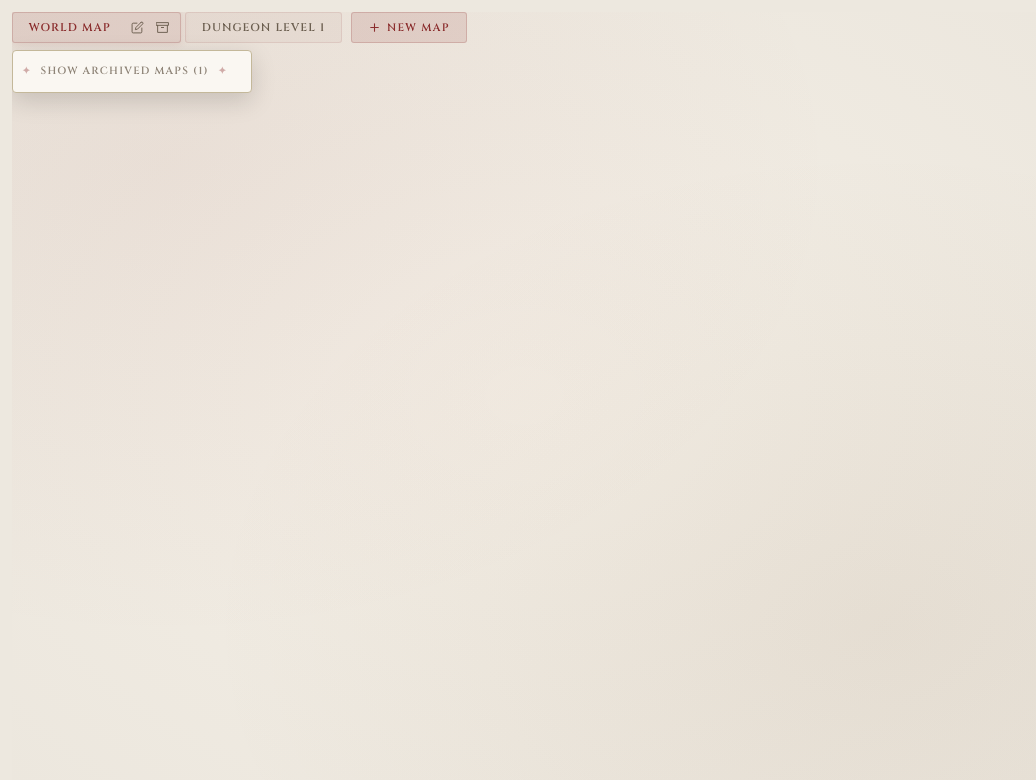
Test: MapSelector › should hide archived maps list when toggle clicked twice
The width and height of the screenshot is (1036, 780).
Click the button "✦ Show Archived Maps (1) ✦" at point(125, 71), box [22,60,228,83]
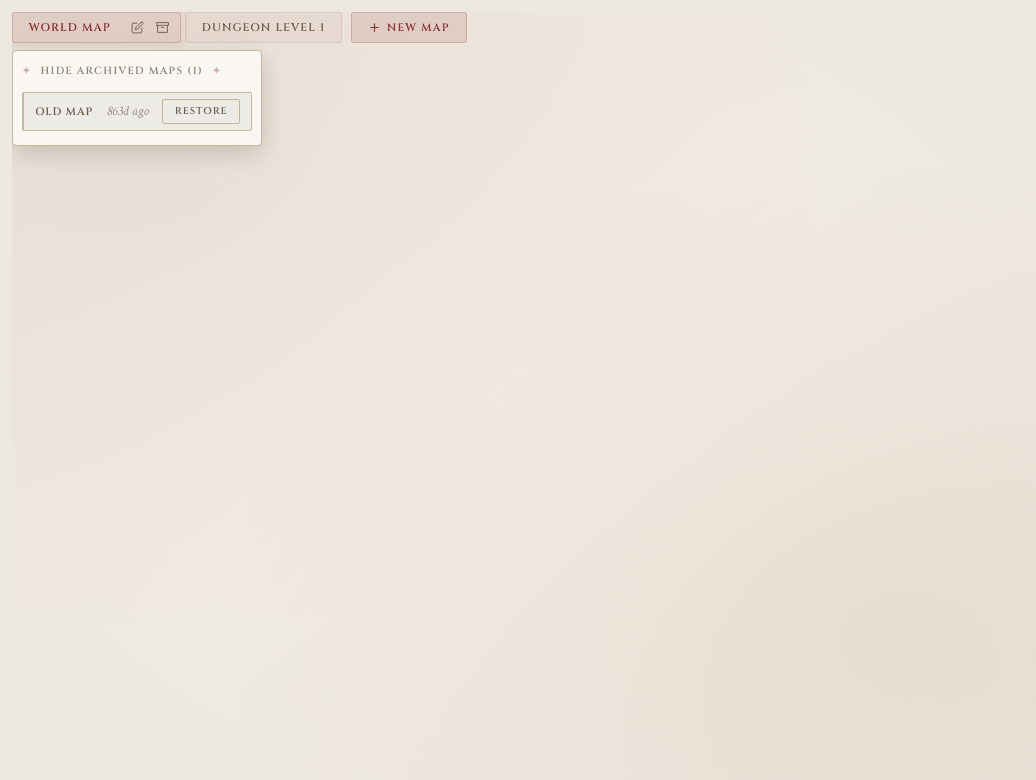
Expected: the text "Old Map" is shown, [35,103,93,120]
Click the button "✦ Hide Archived Maps (1) ✦" at point(122, 71), box [22,60,222,83]
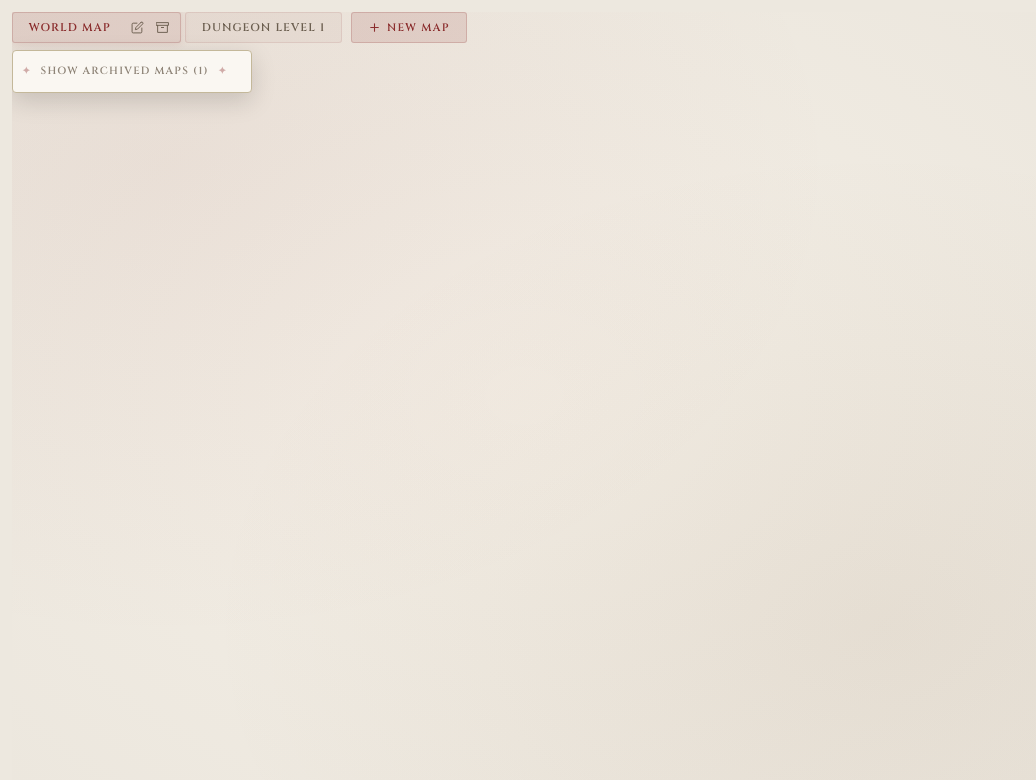
Expected: the text "Old Map" is gone
